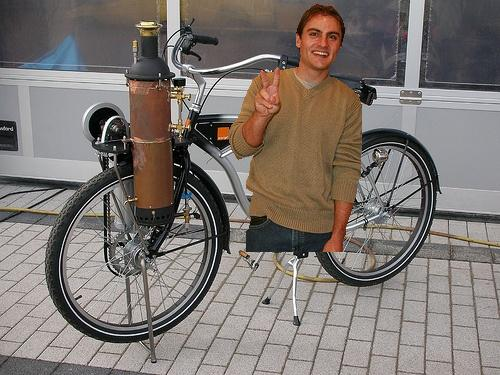tampered: (228, 5, 362, 252)
